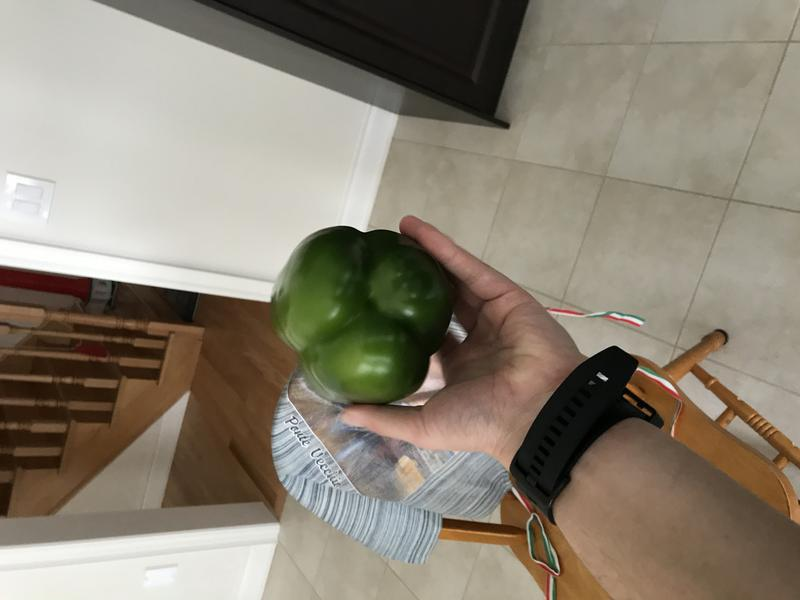green_pepper: (262, 220, 458, 411)
